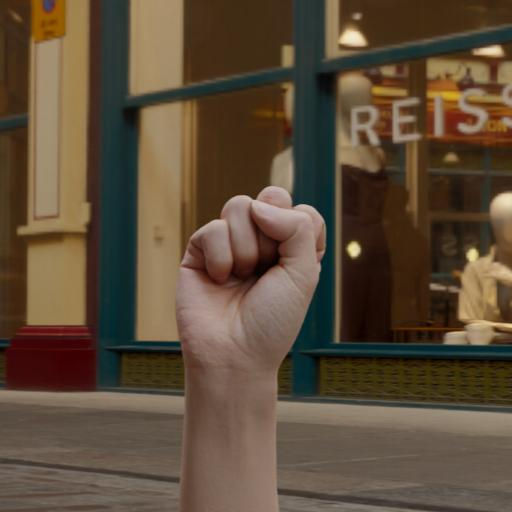S: (156, 158, 336, 383)
